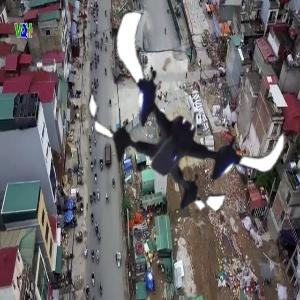drone: (81, 26, 291, 236)
